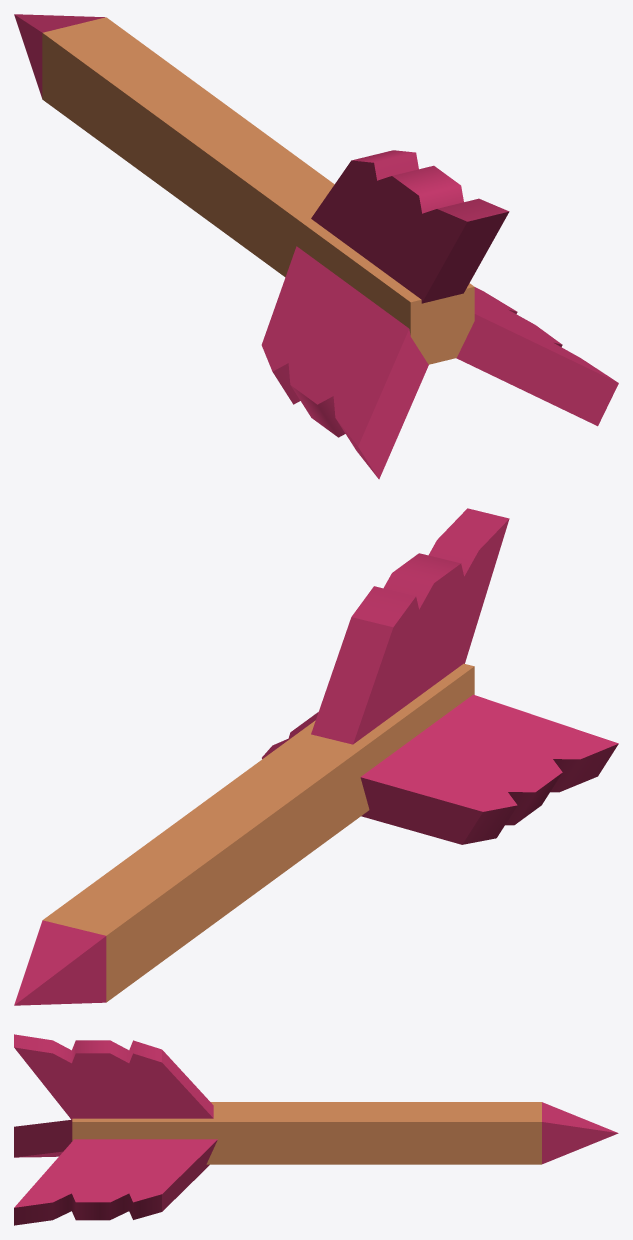
The model's file is Arrow_v2.fbx.
The picture shows the model from 3 angles, top to bottom: view 1: azimuth 30°, elevation 25°; view 2: azimuth 150°, elevation 25°; view 3: azimuth 270°, elevation 25°; orthographic projection. The views are drawn at different scales.
Visible parts, largest first — view 1: Arrow_v2; view 2: Arrow_v2; view 3: Arrow_v2.
Boxes of the visible parts, x1,y1,x2,y2 form: Arrow_v2: (14,14,618,479); Arrow_v2: (14,508,618,1005); Arrow_v2: (14,1034,618,1225).
Size of the model in its own units: 27.57 by 23.87 by 86.86.
1 material, 1 textured.
